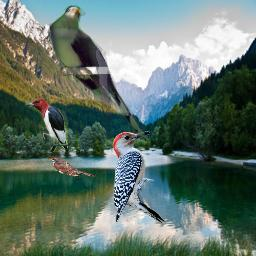Cuckoo: (48, 5, 153, 141), (46, 155, 96, 179)
Woodpecker: (108, 127, 170, 231), (25, 98, 68, 152)
